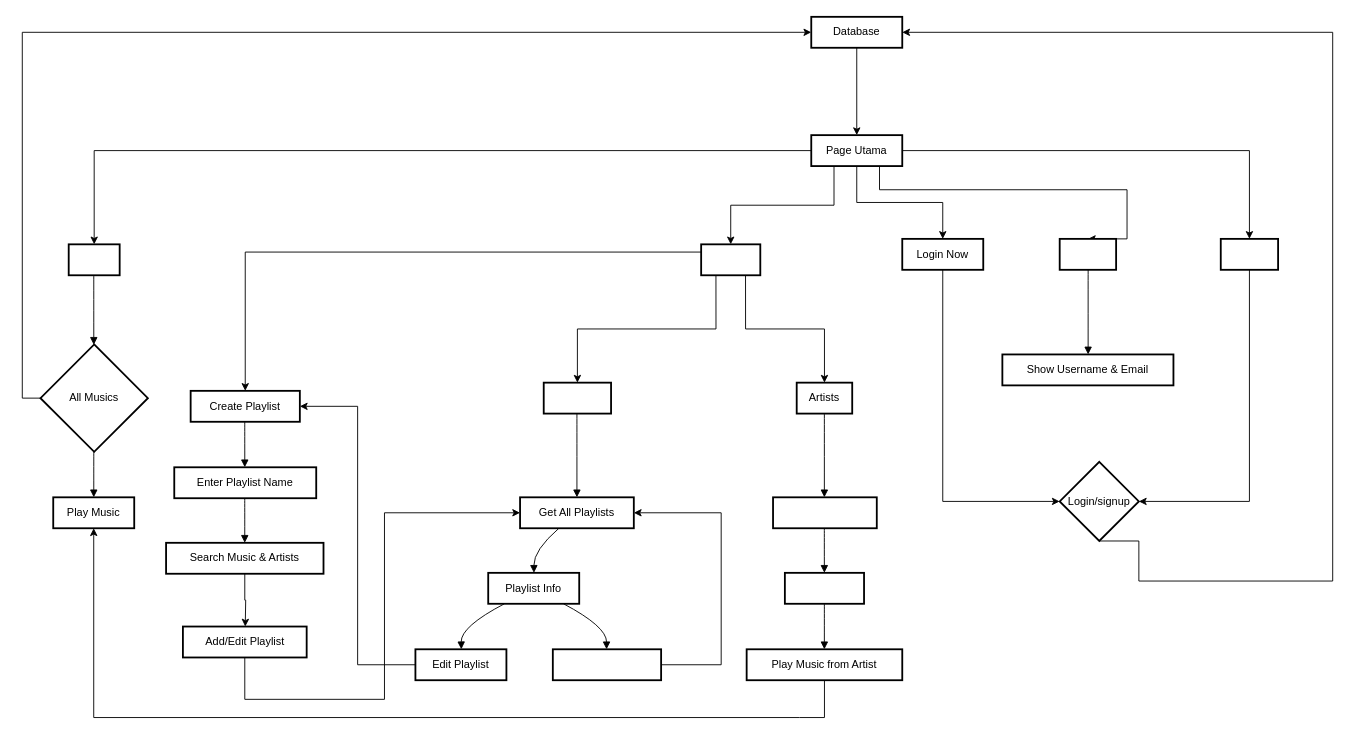
This 1356x741 diagram has some shape labels left out. The shapes that lost their labels are listed below. From the top down, each one's centre as x and y in pixels, then its label:
[93,259]: Home
[730,259]: Library
[1087,254]: Profile
[1249,254]: Logout
[577,397]: Playlists
[824,512]: Get All Artists
[824,587]: Artist Info
[606,664]: Delete Playlist
